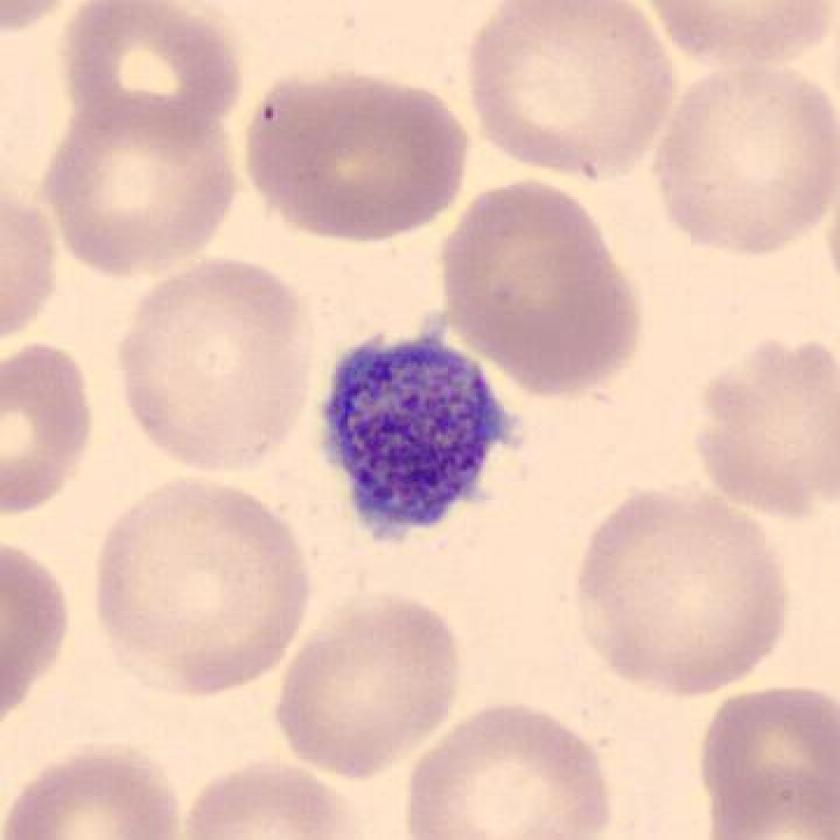platelets: (318, 323, 524, 556)
